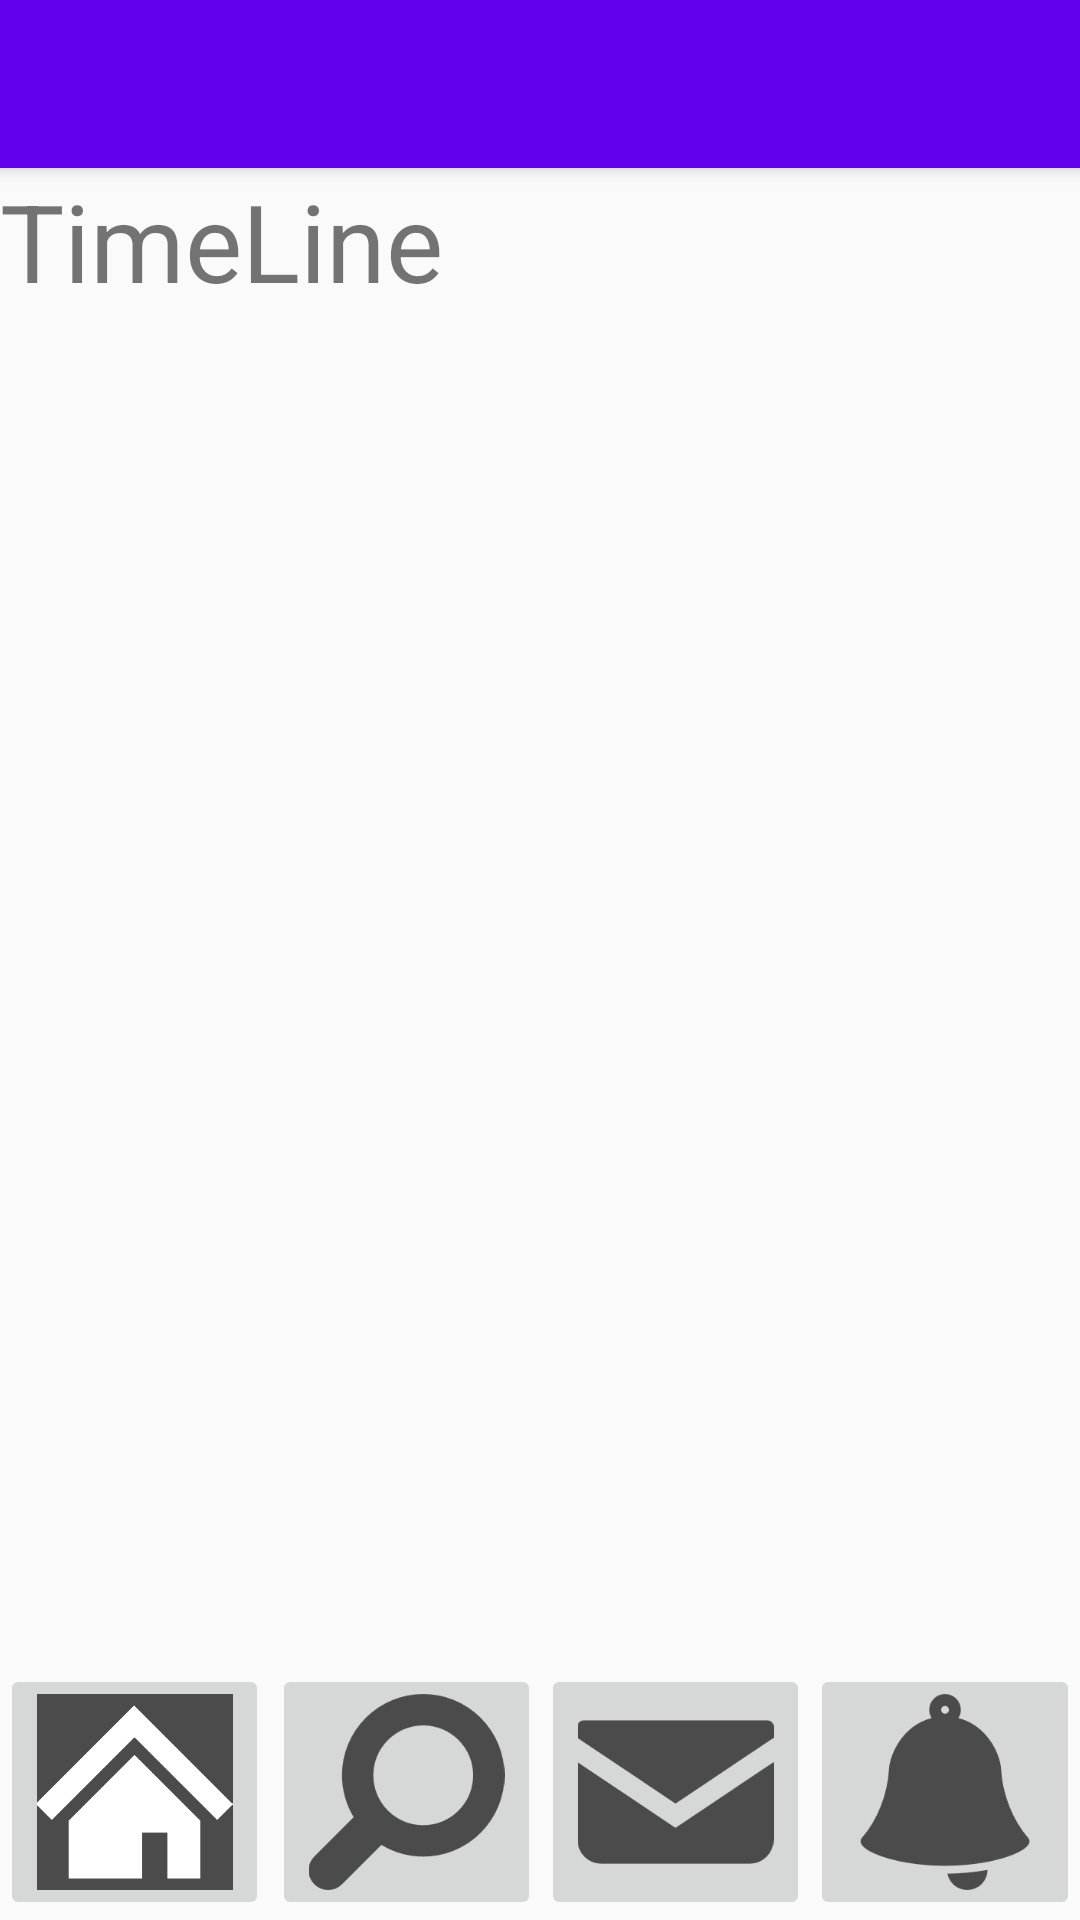

Icons on this 1080w x 1920h Android screen, each with its box as [x1,y1,x2,y2]:
bell: [822,1682,1068,1902]
mail: [553,1682,798,1902]
on home: [12,1682,257,1902]
search: [284,1682,529,1902]
